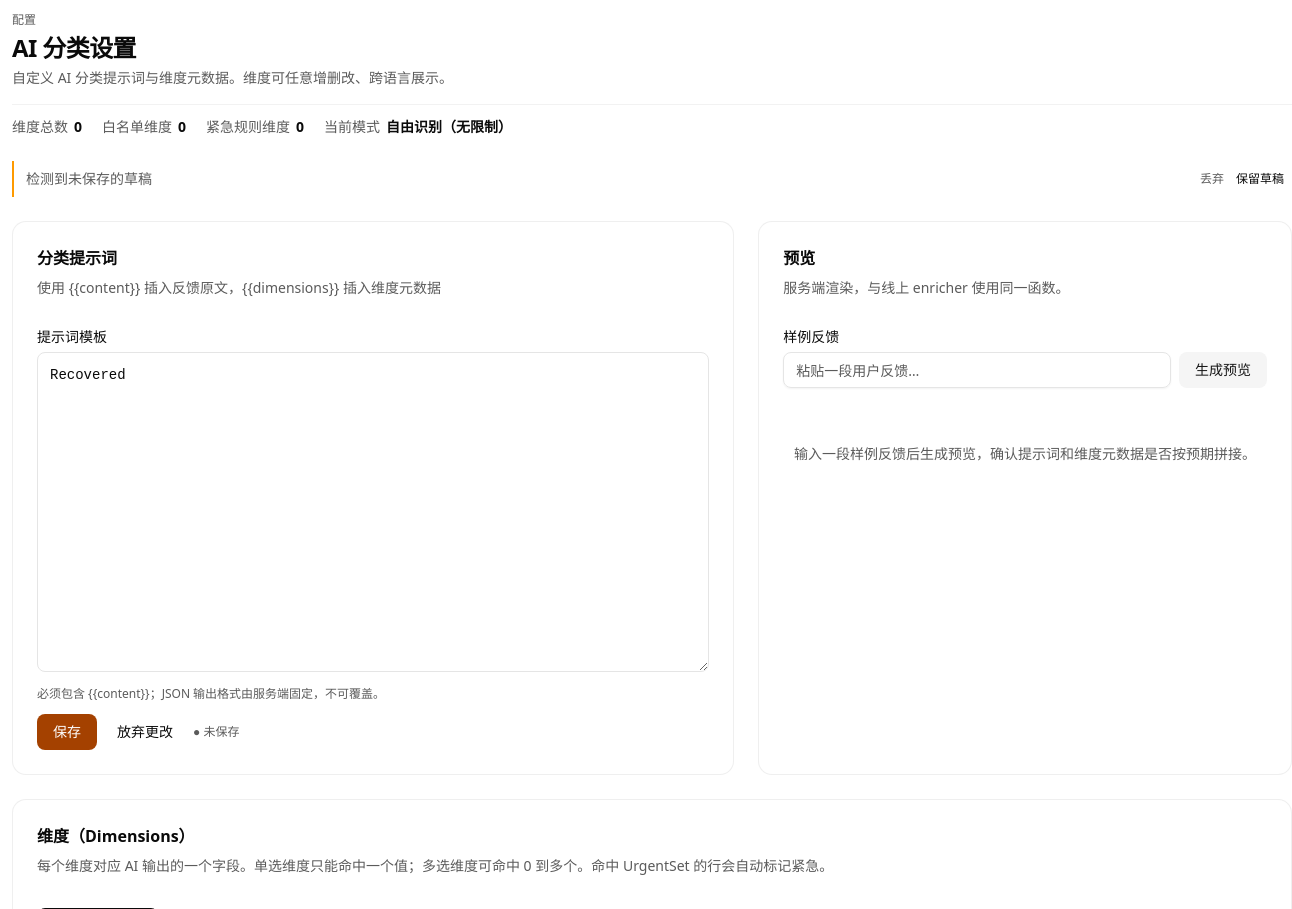
Test: ClassificationSettingsPage › draft durability (#172) › recovery banner keep action dismisses the banner and preserves recovered draft
The width and height of the screenshot is (1292, 909).
Expected: the text "检测到未保存的草稿" is shown, [26,169,152,188]
Click the button "保留草稿": (1260, 179) [1236,171,1284,187]
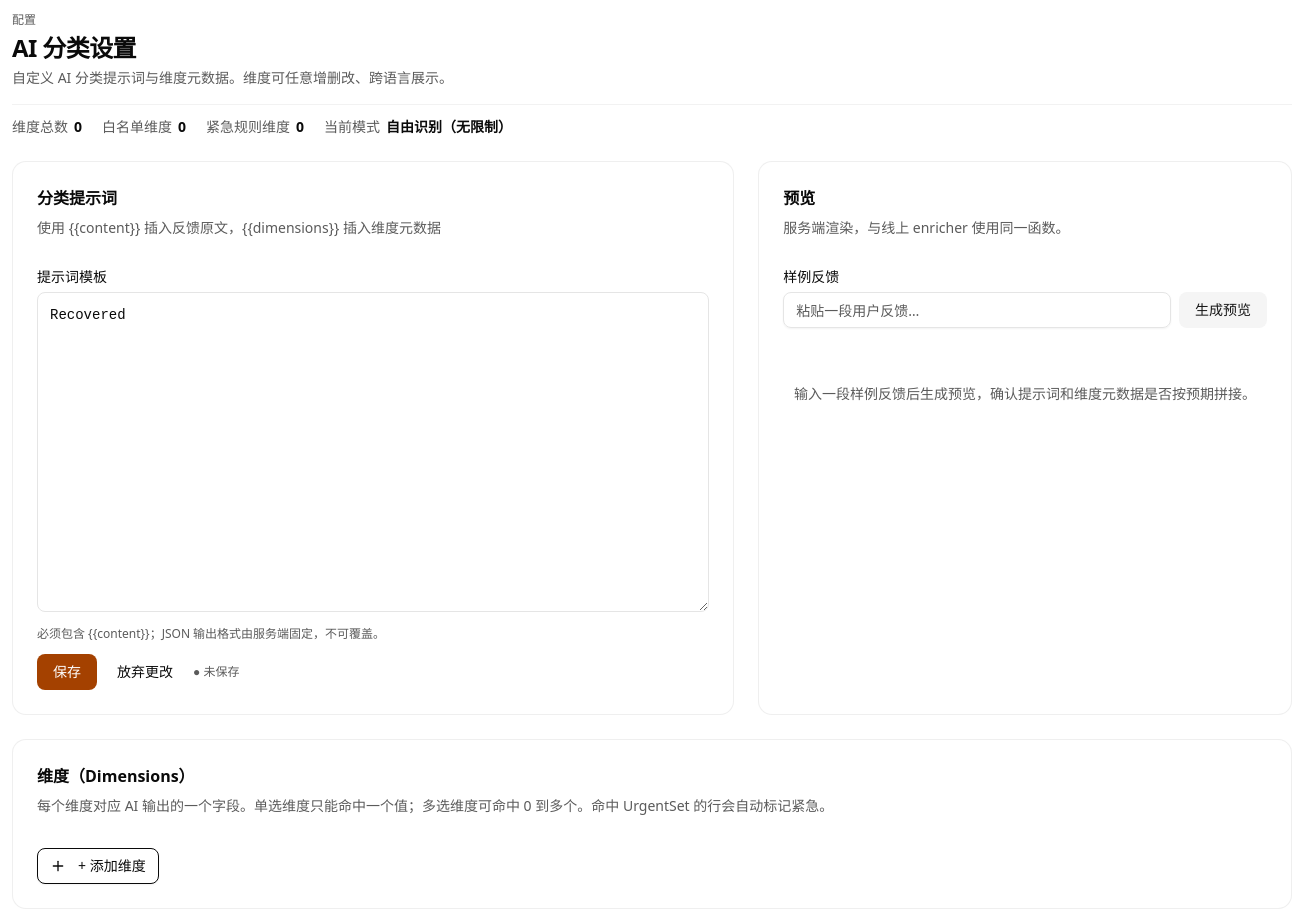
Expected: the text box labelled "提示词模板" holds "Recovered", [37,292,709,612]
Expected: the text "检测到未保存的草稿" is gone
